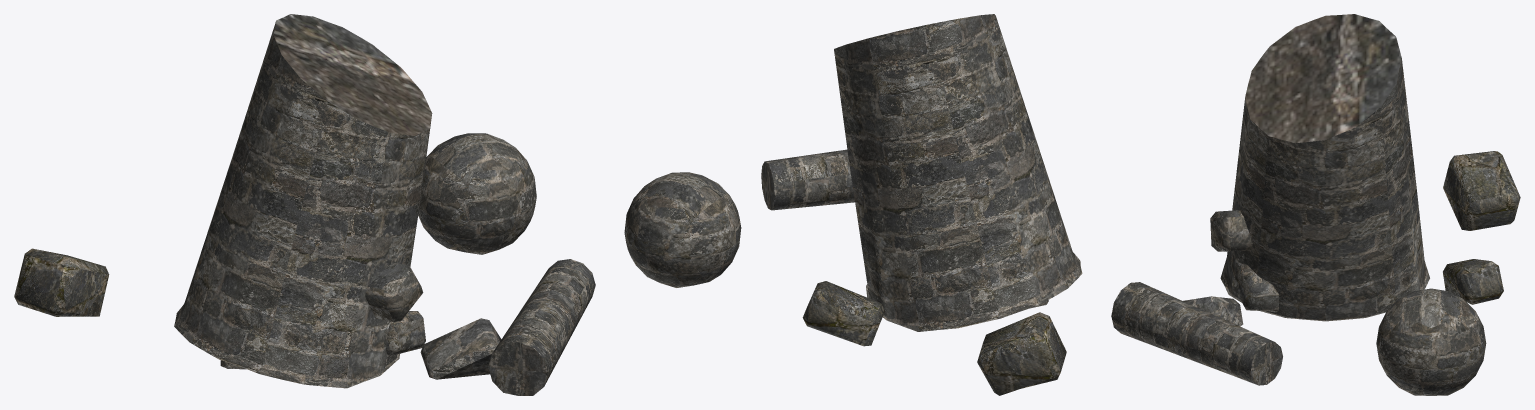
Rendered from statue-fragments-v01.glb.
3 renders of one model, left to right at view 1: azimuth 30°, elevation 25°; view 2: azimuth 150°, elevation 25°; view 3: azimuth 270°, elevation 25°, orthographic. The views are drawn at different scales.
Visible parts, largest first — view 1: statue-fragments; view 2: statue-fragments; view 3: statue-fragments.
Part boxes in pixels (x1,y1,x2,y2): statue-fragments: (14,14,595,395); statue-fragments: (624,14,1082,395); statue-fragments: (1111,14,1520,395).
Size of the model in its own units: 2.34 by 1.39 by 1.94.
Materials: 2 (2 with a texture image).
